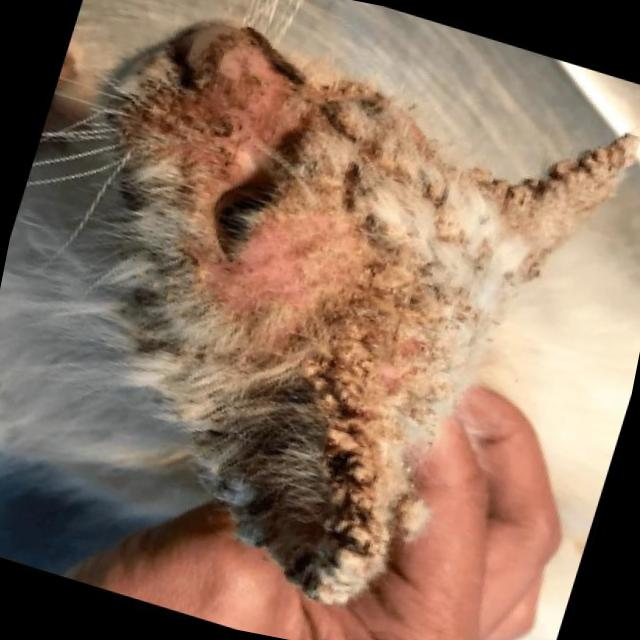Mange: (197, 355, 388, 606), (484, 130, 640, 263), (230, 214, 348, 316), (314, 82, 382, 151), (326, 152, 384, 230), (385, 332, 441, 412), (226, 49, 292, 109), (188, 120, 250, 180), (379, 270, 434, 336), (416, 206, 474, 260), (428, 288, 486, 342), (418, 176, 461, 213), (464, 256, 494, 285)
